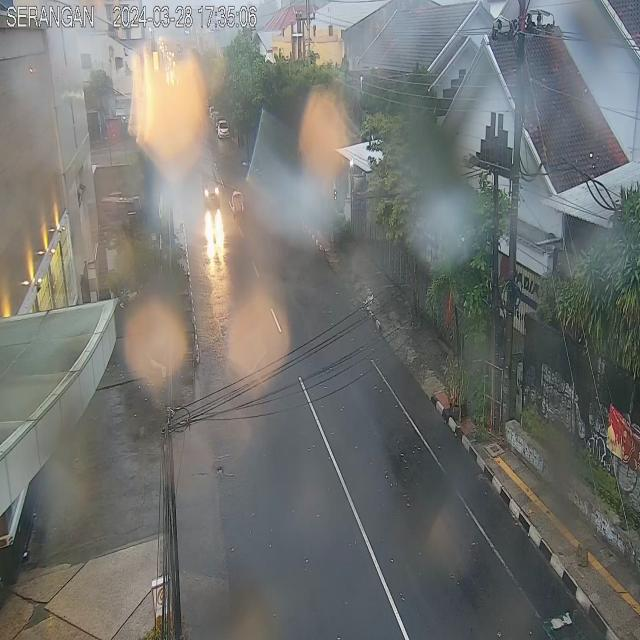car: (200, 166, 220, 208)
